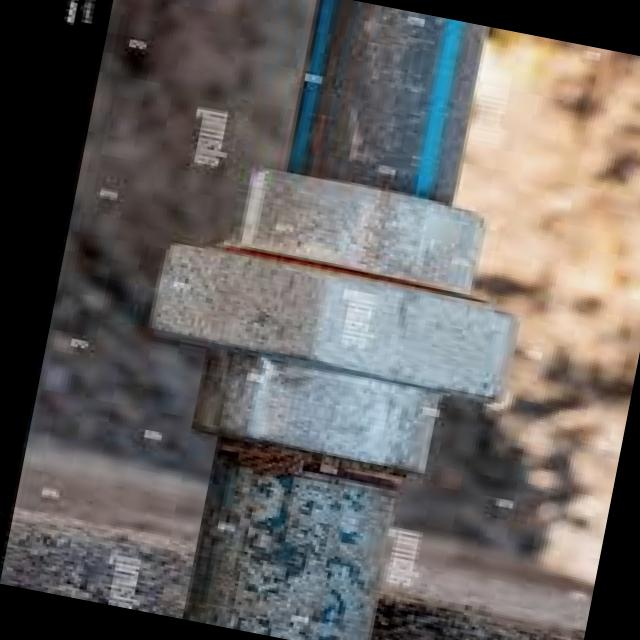gas: (151, 0, 516, 472), (187, 464, 394, 640)
